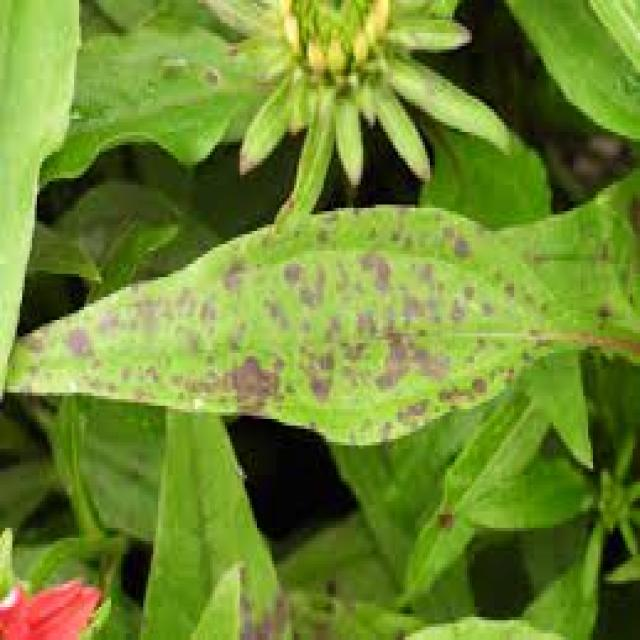leaf_spot: (0, 178, 578, 465)
